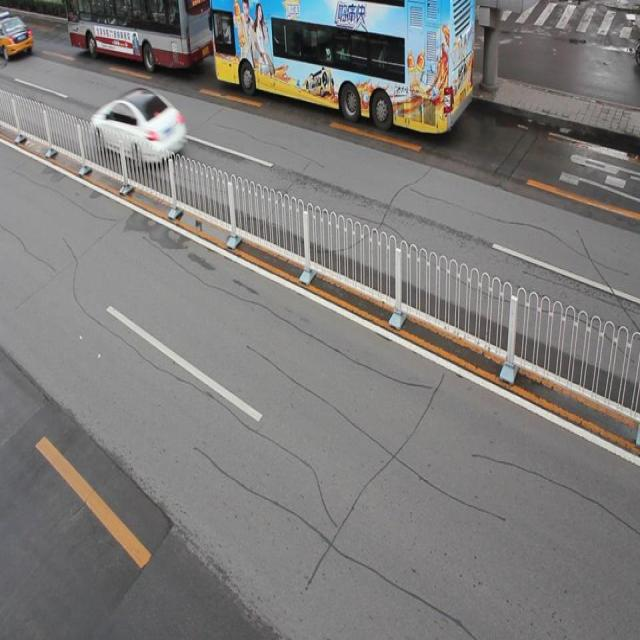car: (92, 85, 187, 166), (1, 12, 34, 60)
van: (209, 1, 474, 127), (63, 1, 210, 64)
